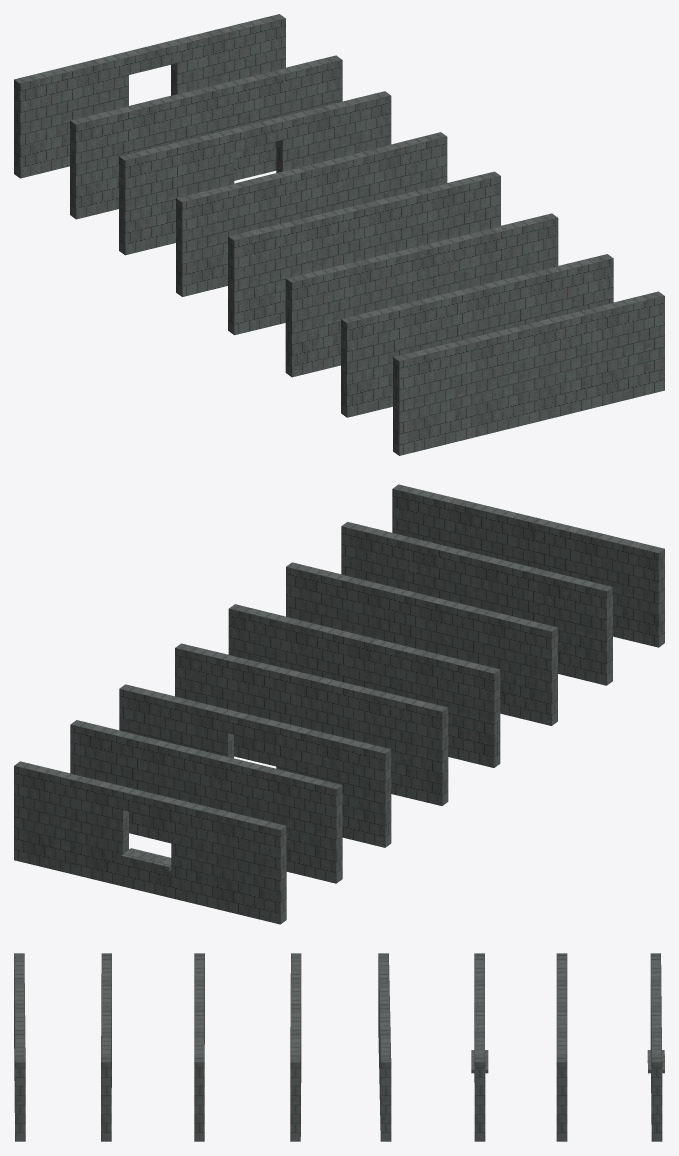
File: Walls.FBX
The picture shows the model from 3 angles, top to bottom: view 1: azimuth 30°, elevation 25°; view 2: azimuth 150°, elevation 25°; view 3: azimuth 270°, elevation 25°; orthographic projection. The views are drawn at different scales.
Visible parts, largest first — view 1: Wall_frag_176, Wall_frag_257, Wall_frag_049, Wall_frag_208, Wall_frag_065, Wall_frag_045, Wall_frag_170, Wall_frag_186, Wall_frag_218, Wall_frag_075, Wall_frag_067, Wall_frag_210 (+81 smaller); view 2: Wall_frag_176, Wall_frag_198, Wall_frag_193, Wall_frag_067, Wall_frag_170, Wall_frag_059, Wall_frag_210, Wall_frag_257, Wall_frag_075, Wall_frag_218, Wall_frag_049, Wall_frag_065 (+69 smaller); view 3: Wall_frag_150, Wall_frag_049, Wall_frag_180, Wall_frag_188, Wall_frag_246, Wall_frag_053, Wall_frag_208, Wall_frag_065, Wall_frag_167, Wall_frag_077, Wall_frag_220, Wall_frag_258 (+6 smaller).
Part boxes in pixels (x1=…): Wall_frag_176: x1=341, y1=312, x2=392, y2=417; Wall_frag_257: x1=285, y1=290, x2=333, y2=377; Wall_frag_049: x1=321, y1=91, x2=391, y2=154; Wall_frag_208: x1=260, y1=205, x2=362, y2=257; Wall_frag_065: x1=208, y1=167, x2=309, y2=218; Wall_frag_045: x1=119, y1=145, x2=171, y2=219; Wall_frag_170: x1=413, y1=283, x2=494, y2=337; Wall_frag_186: x1=70, y1=108, x2=125, y2=173; Wall_frag_218: x1=351, y1=193, x2=415, y2=256; Wall_frag_075: x1=298, y1=154, x2=362, y2=216; Wall_frag_067: x1=176, y1=218, x2=227, y2=296; Wall_frag_210: x1=228, y1=255, x2=278, y2=335; Wall_frag_176: x1=559, y1=580, x2=612, y2=685; Wall_frag_198: x1=281, y1=795, x2=342, y2=883; Wall_frag_193: x1=170, y1=749, x2=255, y2=808; Wall_frag_067: x1=391, y1=730, x2=448, y2=805; Wall_frag_170: x1=453, y1=554, x2=543, y2=611; Wall_frag_059: x1=331, y1=762, x2=391, y2=846; Wall_frag_210: x1=450, y1=692, x2=500, y2=767; Wall_frag_257: x1=512, y1=635, x2=557, y2=725; Wall_frag_075: x1=258, y1=664, x2=324, y2=728; Wall_frag_218: x1=311, y1=625, x2=377, y2=688; Wall_frag_049: x1=119, y1=684, x2=189, y2=740; Wall_frag_065: x1=316, y1=676, x2=418, y2=728; Wall_frag_150: x1=651, y1=1060, x2=662, y2=1141; Wall_frag_049: x1=474, y1=1035, x2=485, y2=1099; Wall_frag_180: x1=101, y1=1090, x2=111, y2=1141; Wall_frag_188: x1=556, y1=1044, x2=567, y2=1091; Wall_frag_246: x1=194, y1=1042, x2=204, y2=1096; Wall_frag_053: x1=474, y1=1097, x2=485, y2=1141; Wall_frag_208: x1=290, y1=965, x2=301, y2=1010; Wall_frag_065: x1=378, y1=965, x2=389, y2=1020; Wall_frag_167: x1=101, y1=1045, x2=111, y2=1090; Wall_frag_077: x1=380, y1=1050, x2=391, y2=1091; Wall_frag_220: x1=290, y1=1050, x2=300, y2=1091; Wall_frag_258: x1=194, y1=1089, x2=204, y2=1138.
Bounding box in the file's own units: 3702 × 1255 × 9329.
1 material, 1 textured.
